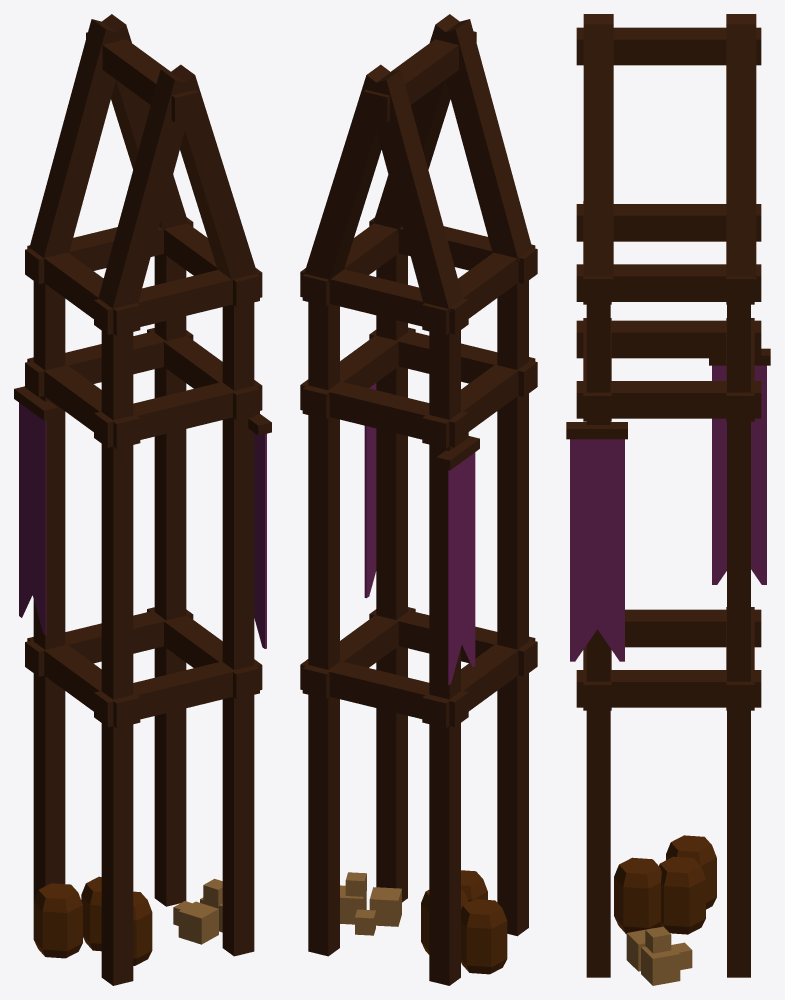
The model's file is ClockBuildPhase2v1.fbx.
The picture shows the model from 3 angles, left to right: view 1: azimuth 30°, elevation 25°; view 2: azimuth 150°, elevation 25°; view 3: azimuth 270°, elevation 25°; orthographic projection. The views are drawn at different scales.
Parts seen in each view (by area): view 1: Cube.2641; view 2: Cube.2641; view 3: Cube.2641.
Boxes of the visible parts, <box> form: Cube.2641: <box>14,14,271,985</box>; Cube.2641: <box>300,14,537,985</box>; Cube.2641: <box>566,14,770,985</box>.
Size of the model in its own units: 61.86 by 288 by 57.71.
